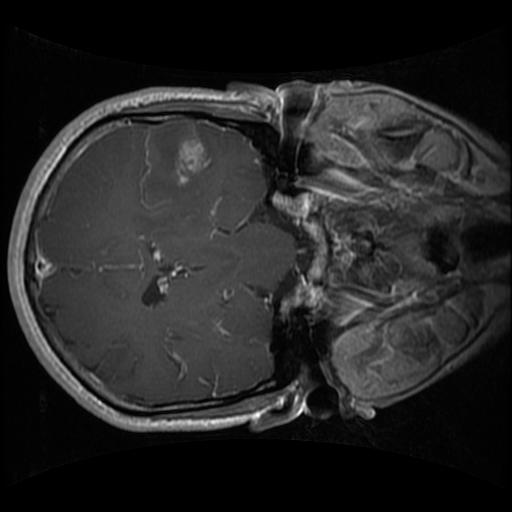glioma: (165, 131, 213, 191)
